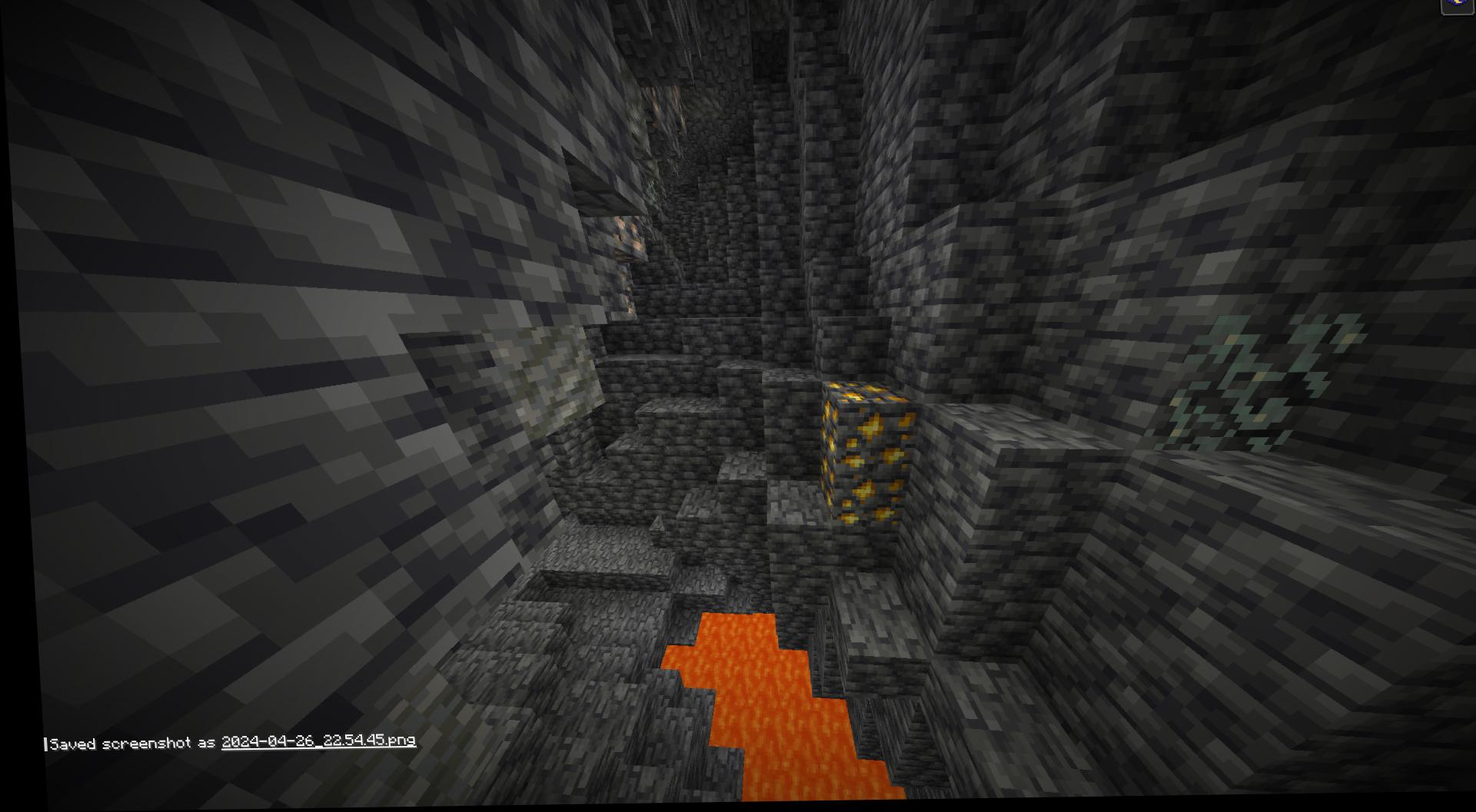gold ore: (818, 383, 913, 472), (816, 467, 897, 525)
iron ore: (604, 207, 647, 264)
